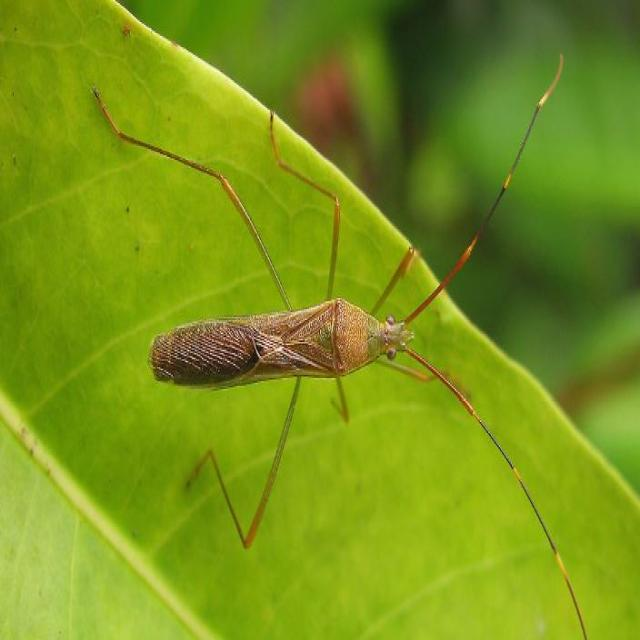walang sangit pada tanaman padi: (88, 51, 588, 634)
